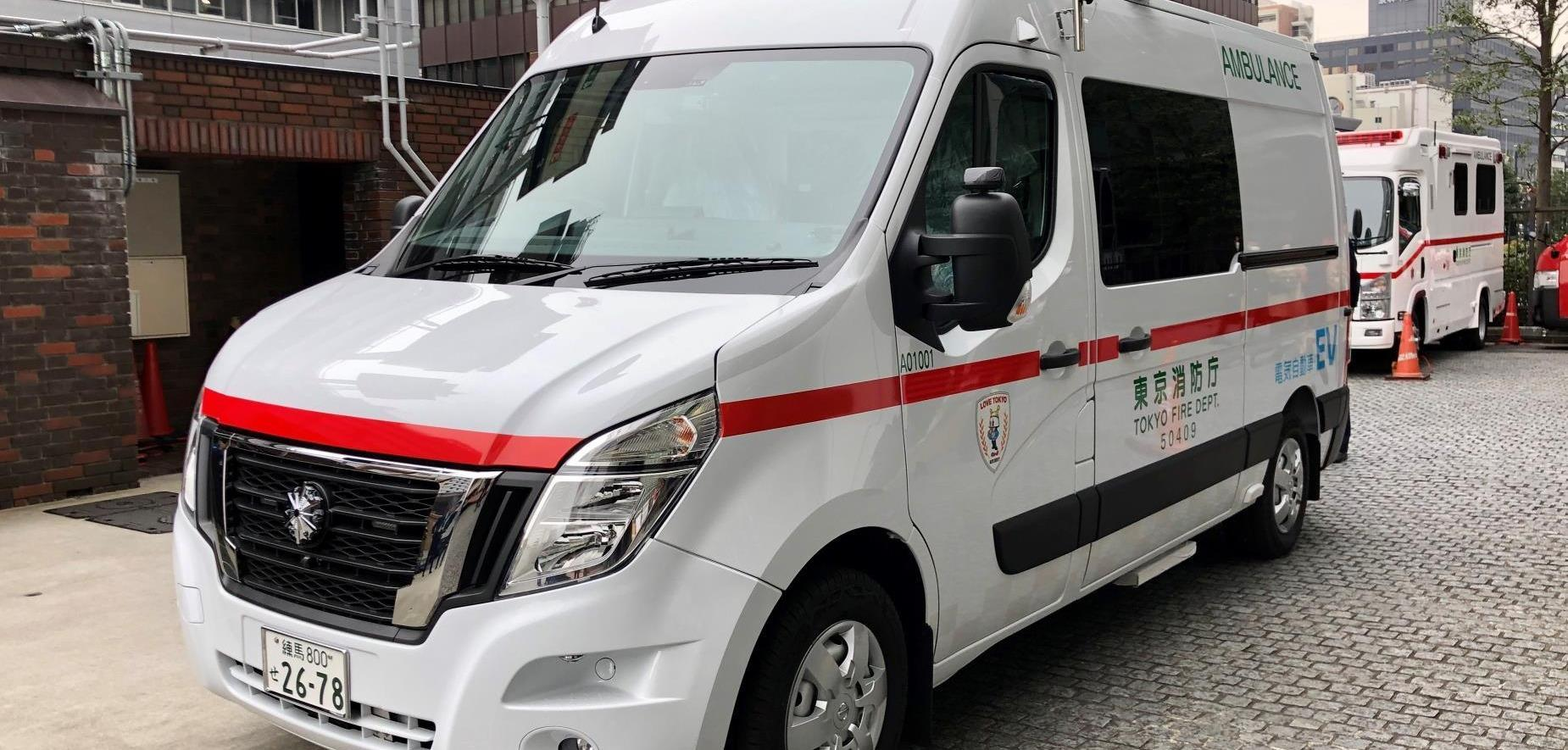Ambulance: (1205, 43, 1313, 105)
